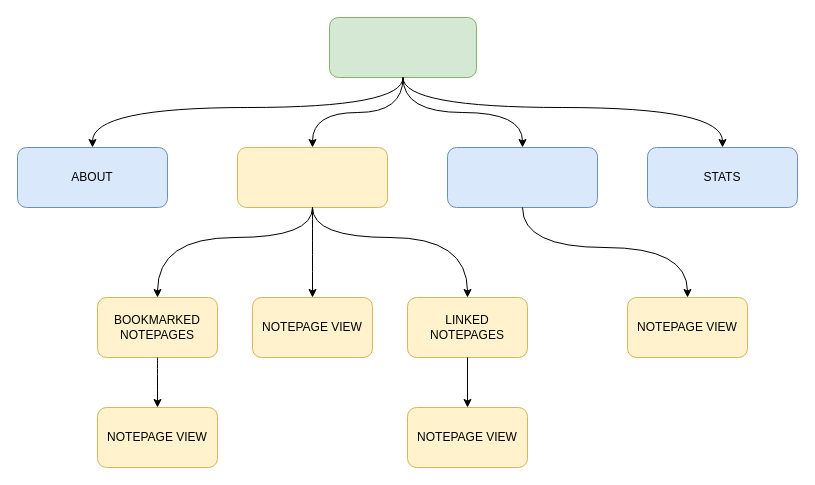
Some shapes in this 815 by 485 pixel diagram are drawn without their labels. The centre of each missing label's shape, as x and y in pixels:
"CREATE NOTEPAGE" belongs at (x=522, y=177).
"HOMEPAGE" belongs at (x=402, y=47).
"VIEW NOTEPAGES" belongs at (x=312, y=177).
